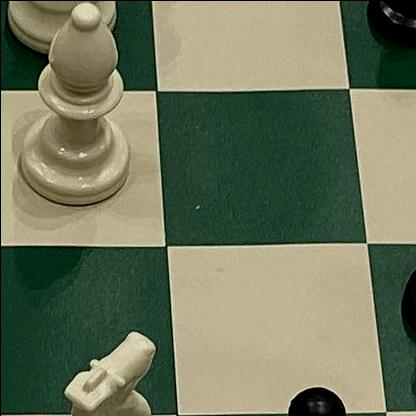black-pawn: (239, 368, 369, 416), (388, 173, 416, 364)
white-bishop: (12, 0, 149, 209)
white-knight: (21, 316, 174, 416)
white-rook: (0, 0, 132, 62)
